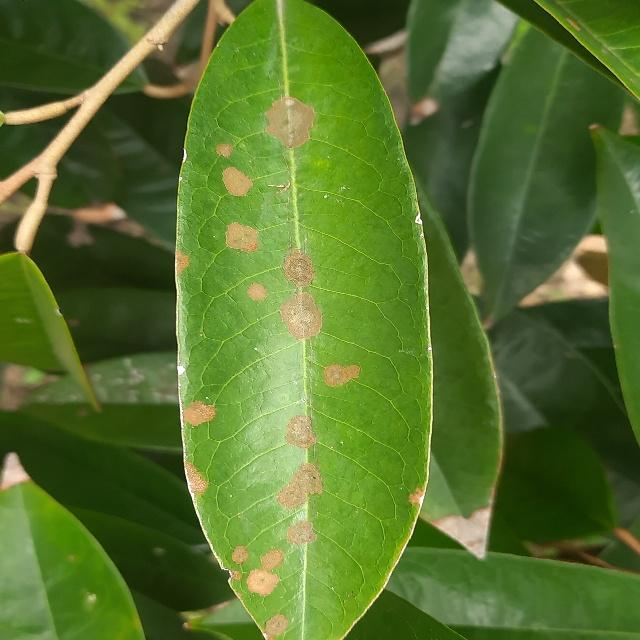Algal Leaf Spot: (163, 0, 438, 640)
